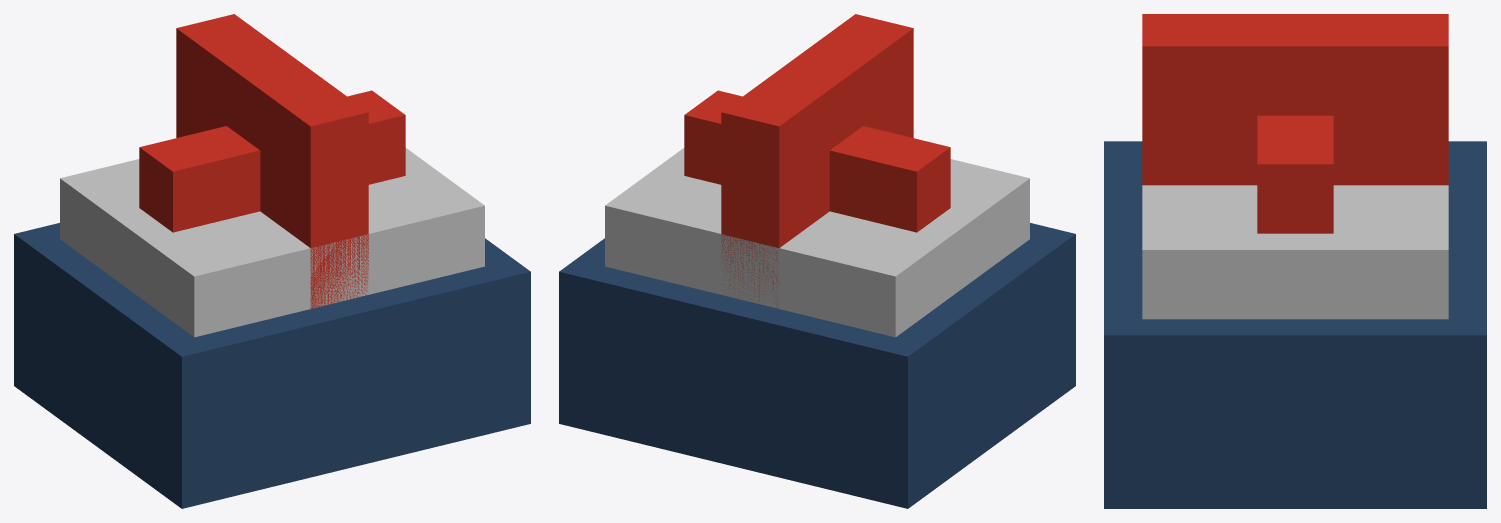
Rendered from medical_module.obj.
3 views of the same model, side by side, from view 1: azimuth 30°, elevation 25°; view 2: azimuth 150°, elevation 25°; view 3: azimuth 270°, elevation 25° (orthographic). The views are drawn at different scales.
Parts seen in each view (by area): view 1: medical_module; view 2: medical_module; view 3: medical_module.
Boxes of the visible parts, left/top/right/bottom form: medical_module: left=14, top=14, right=530, bottom=508; medical_module: left=559, top=14, right=1075, bottom=508; medical_module: left=1104, top=14, right=1486, bottom=508.
Size of the model in its own units: 0.24 by 0.22 by 0.2.
